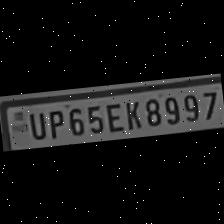5: (82, 101, 104, 135)
6: (64, 103, 85, 137)
7: (197, 87, 220, 121)
8: (140, 94, 162, 128)
9: (160, 92, 182, 126), (180, 89, 200, 123)
E: (103, 99, 125, 133)
K: (120, 96, 142, 130)
P: (44, 105, 65, 139)
U: (25, 108, 47, 140)
